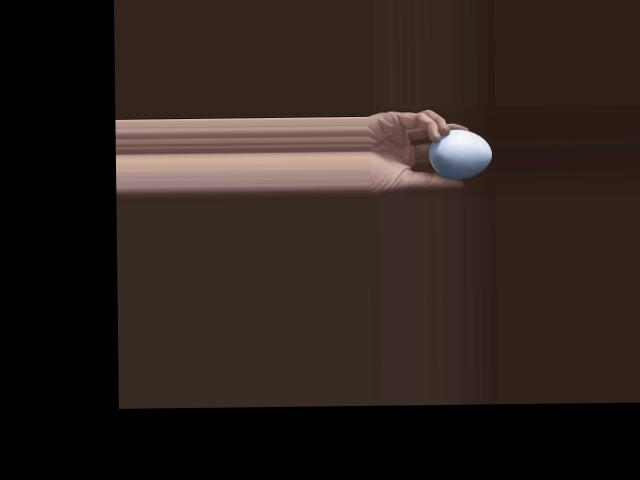egg: (429, 128, 493, 178)
